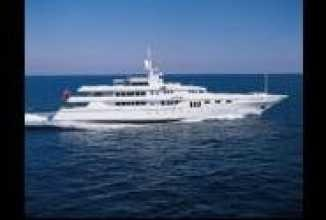yacht: (55, 62, 282, 126)
